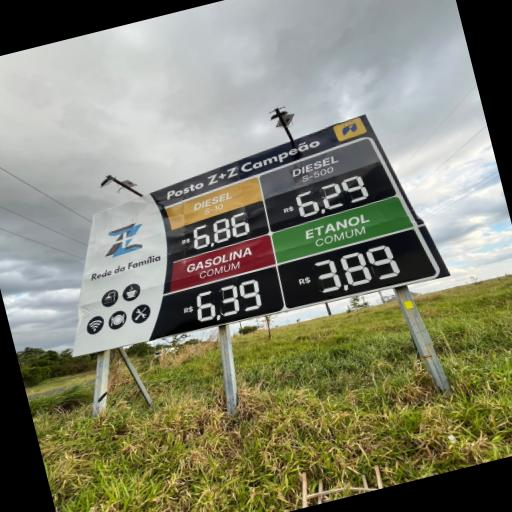ETANOL: (295, 206, 380, 256)
GASOLINA C: (181, 238, 269, 287)
S10: (176, 184, 242, 229)
S500: (277, 140, 370, 195)
placa: (76, 114, 450, 357)
preco: (309, 236, 414, 299), (194, 272, 276, 326), (293, 170, 378, 221), (186, 210, 254, 254)
